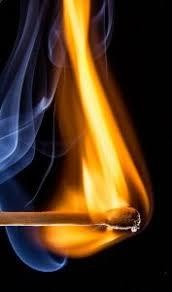fire: (0, 0, 158, 219)
